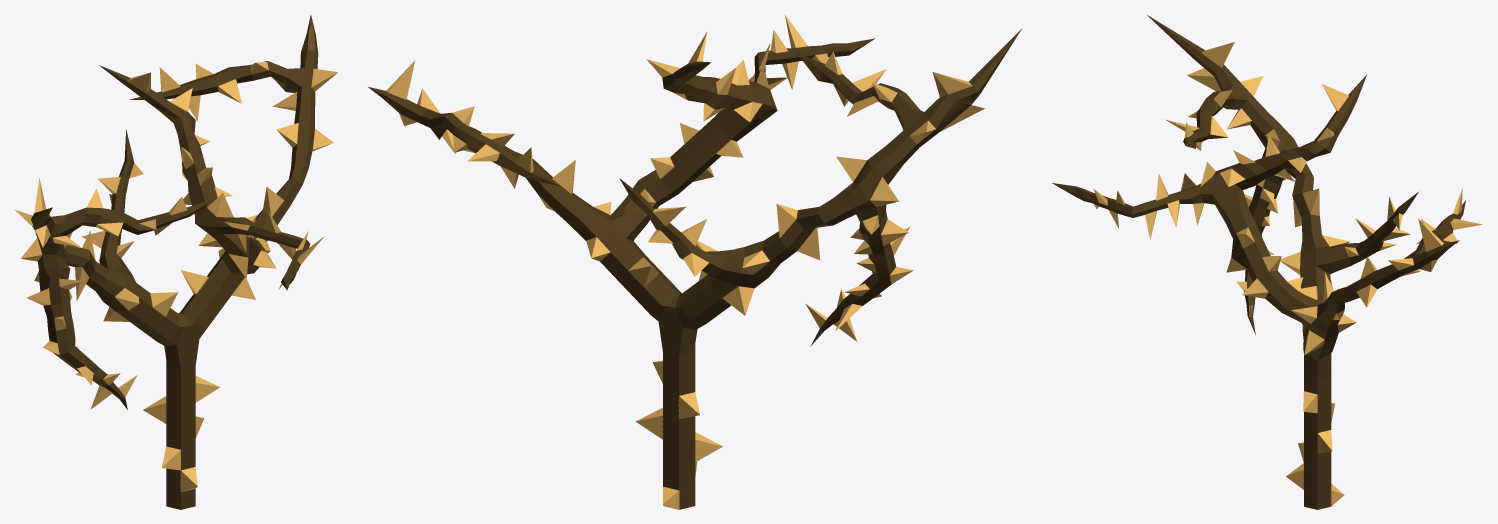
Rendered from ThornBush.fbx.
The picture shows the model from 3 angles, left to right: view 1: azimuth 30°, elevation 25°; view 2: azimuth 150°, elevation 25°; view 3: azimuth 270°, elevation 25°; orthographic projection. The views are drawn at different scales.
Parts seen in each view (by area): view 1: Thornbush; view 2: Thornbush; view 3: Thornbush.
Part boxes in pixels (left/top/right/bottom): Thornbush: left=15, top=15, right=337, bottom=509; Thornbush: left=368, top=15, right=1022, bottom=509; Thornbush: left=1052, top=15, right=1482, bottom=509.
Bounding box in the file's own units: 34.32 × 32.26 × 33.52.
